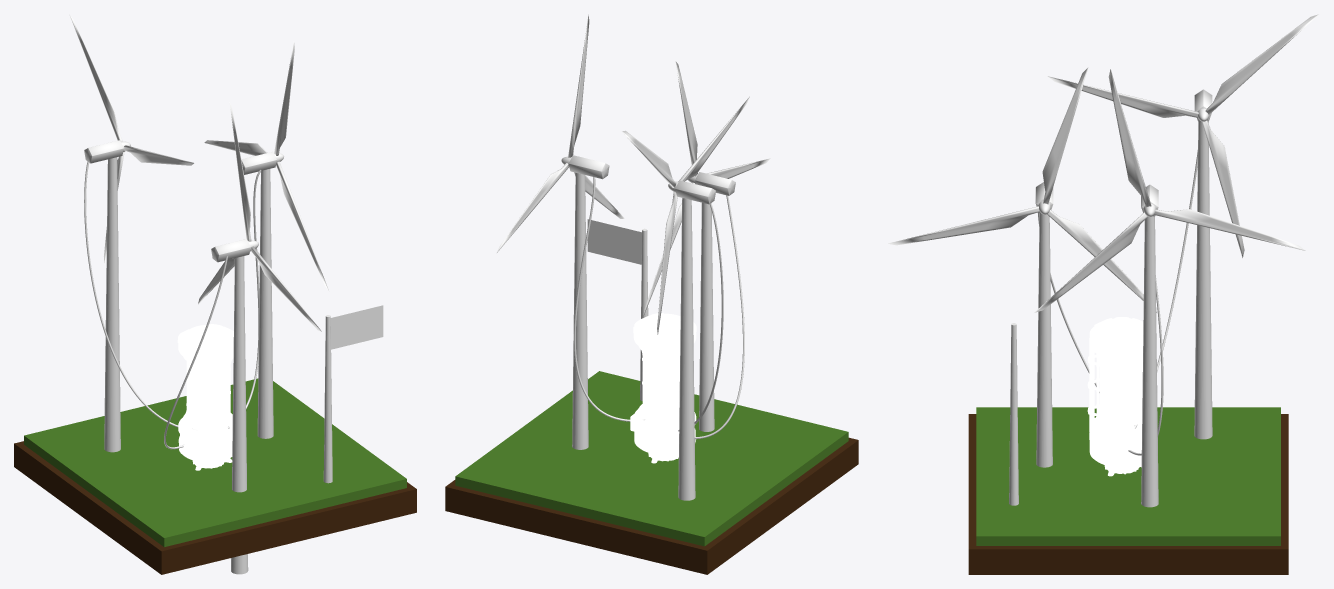
The model's file is nitherland.glb.
3 renders of one model, left to right at view 1: azimuth 30°, elevation 25°; view 2: azimuth 150°, elevation 25°; view 3: azimuth 270°, elevation 25°, orthographic. The views are drawn at different scales.
Parts seen in each view (by area): view 1: Cube, Cube.001, Generator, Cylinder.003, Cylinder.004, Cylinder, Plane.003, Plane.002, Plane.005, Plane.001, Cylinder.006, BezierCurve.001 (+5 smaller); view 2: Cube, Cube.001, Generator, Cylinder.003, Cylinder.004, Cylinder, Plane.001, Plane.003, Plane.005, Plane.002, BezierCurve.012, Cylinder.006 (+5 smaller); view 3: Cube, Cube.001, Generator, Cylinder.003, Cylinder.004, Plane.003, Plane.001, Plane.002, Cylinder, Cylinder.006, BezierCurve.001.
Boxes of the visible parts, x1,y1,x2,y2 form: Cube: [24, 378, 406, 547]; Cube.001: [14, 441, 416, 574]; Generator: [177, 324, 233, 470]; Cylinder.003: [104, 157, 120, 452]; Cylinder.004: [257, 169, 273, 438]; Cylinder: [231, 256, 248, 574]; Plane.003: [204, 41, 328, 290]; Plane.002: [198, 101, 321, 331]; Plane.005: [330, 305, 383, 349]; Plane.001: [69, 14, 193, 263]; Cylinder.006: [323, 315, 332, 483]; BezierCurve.001: [84, 161, 196, 429]; Cube: [455, 371, 848, 546]; Cube.001: [445, 437, 858, 574]; Generator: [630, 312, 696, 463]; Cylinder.003: [678, 198, 695, 500]; Cylinder.004: [572, 173, 588, 449]; Cylinder: [699, 202, 714, 431]; Plane.001: [622, 96, 749, 334]; Plane.003: [497, 14, 624, 252]; Plane.005: [587, 219, 641, 264]; Plane.002: [643, 61, 770, 316]; BezierCurve.012: [573, 177, 644, 421]; Cylinder.006: [640, 228, 648, 400]; Cube: [976, 407, 1280, 545]; Cube.001: [968, 414, 1288, 574]; Generator: [1087, 317, 1143, 476]; Cylinder.003: [1194, 121, 1212, 439]; Cylinder.004: [1141, 216, 1158, 507]; Plane.003: [1034, 69, 1305, 312]; Plane.001: [1048, 14, 1319, 257]; Plane.002: [888, 67, 1156, 312]; Cylinder: [1036, 213, 1052, 467]; Cylinder.006: [1009, 323, 1018, 505]; BezierCurve.001: [1134, 150, 1197, 428].
Size of the model in its own units: 3.76 by 6.85 by 5.07.
